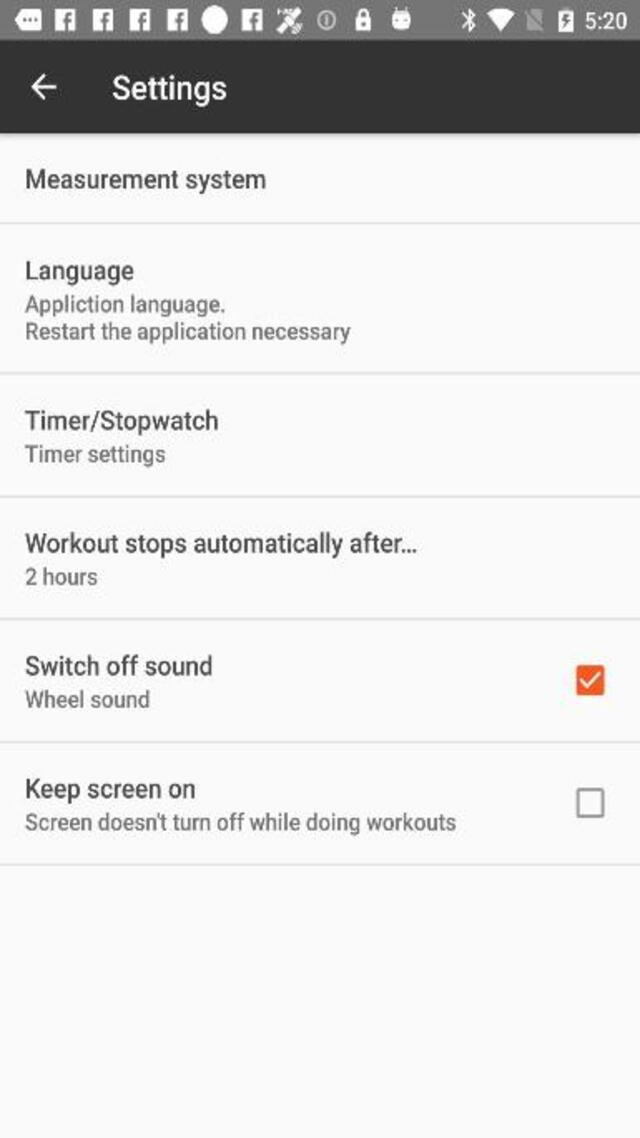CheckedTextView: (576, 787, 604, 817), (576, 664, 604, 694)
Icon: (29, 73, 56, 101)
Text: (26, 530, 417, 558), (26, 812, 457, 835), (20, 321, 353, 346), (27, 169, 266, 194), (25, 410, 218, 436), (21, 294, 227, 317), (27, 779, 196, 804), (26, 654, 212, 675), (113, 74, 226, 106), (22, 259, 137, 286), (25, 444, 165, 466), (25, 689, 148, 709), (25, 566, 98, 586)
